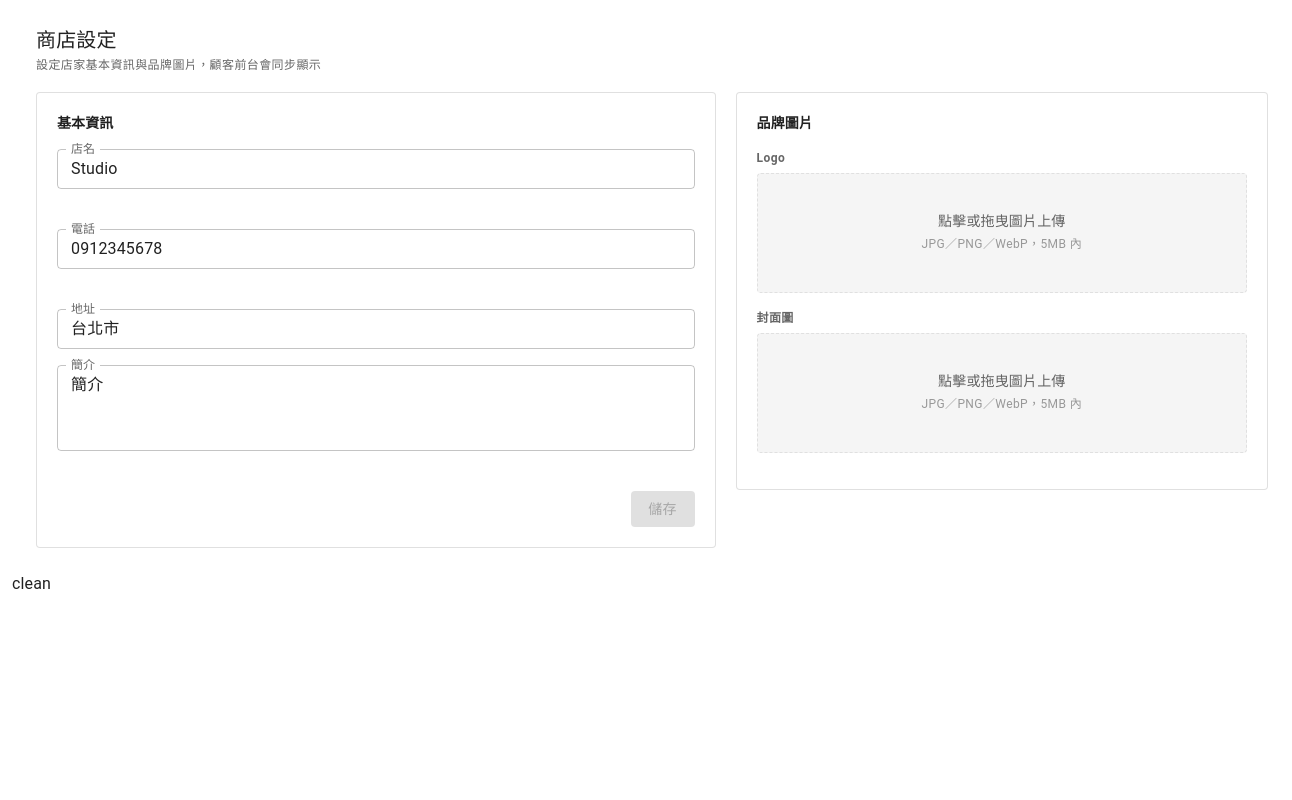
StoreSettingsForm 未儲存變更回報（TASK-082，key: store-basic-info） › 改「店名」：有變更
This screenshot has width=1292, height=800.
In the field labelled "店名": {"x": 376, "y": 169} [57,149,695,189], type "x"
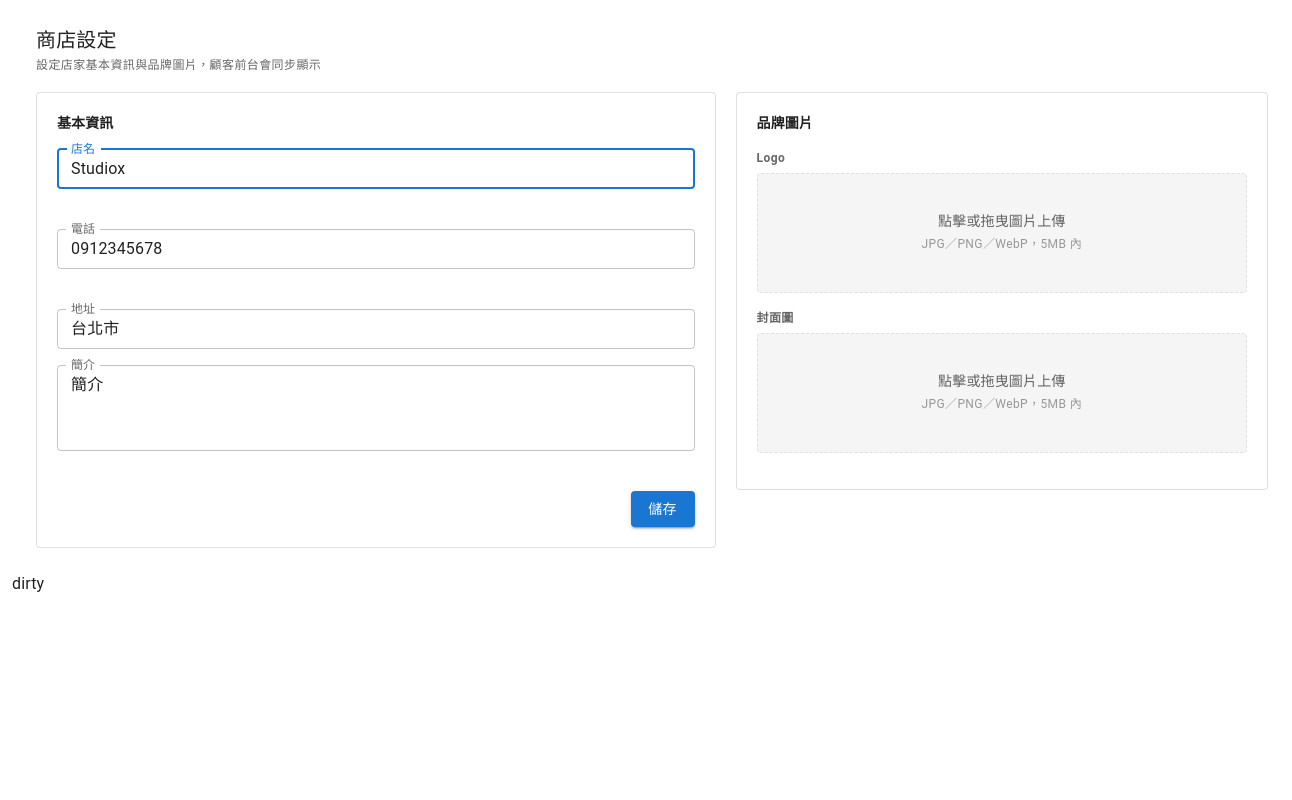
Result: the text with test id "probe" reads "dirty" at [12,574,44,593]
